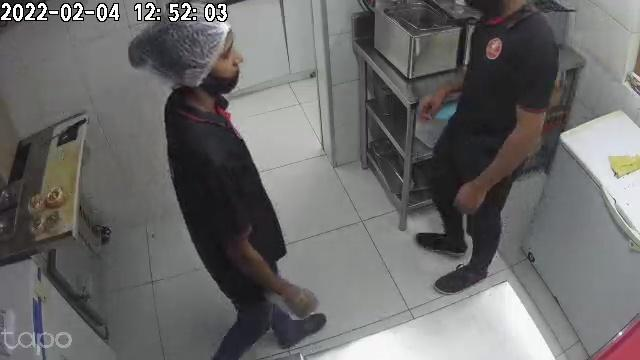no_gloves: (455, 173, 491, 214)
